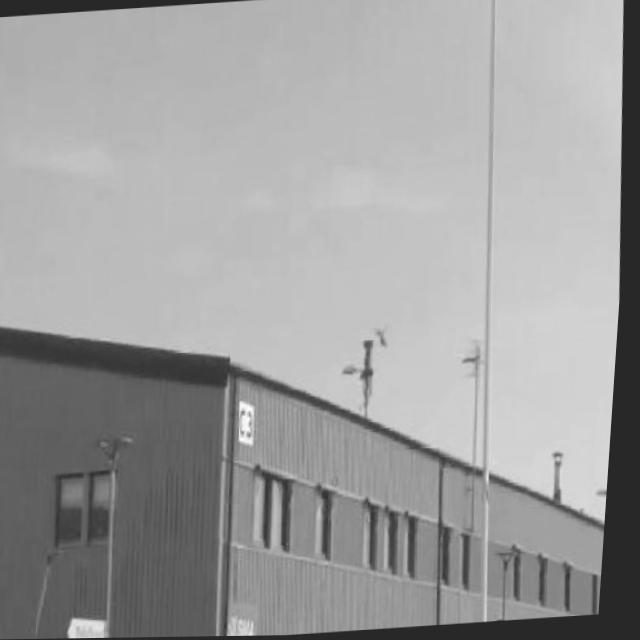helikopter: (372, 319, 402, 356)
